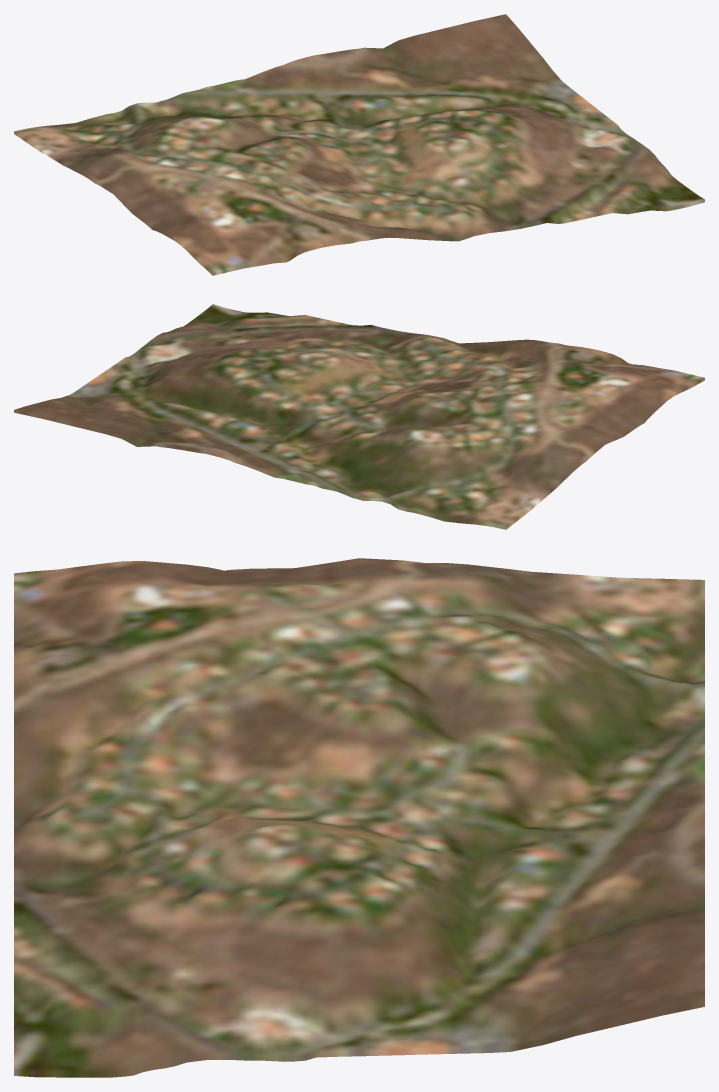
The model's file is terrain_r0_c0_lod1.glb.
The picture shows the model from 3 angles, top to bottom: view 1: azimuth 30°, elevation 25°; view 2: azimuth 150°, elevation 25°; view 3: azimuth 270°, elevation 25°; orthographic projection. The views are drawn at different scales.
Parts seen in each view (by area): view 1: terrain_r0_c0_lod1; view 2: terrain_r0_c0_lod1; view 3: terrain_r0_c0_lod1.
Part boxes in pixels (x1,y1,x2,y2): terrain_r0_c0_lod1: (14, 14, 704, 275); terrain_r0_c0_lod1: (14, 304, 704, 529); terrain_r0_c0_lod1: (14, 558, 704, 1077).
Size of the model in its own units: 1125 by 145 by 787.
Materials: 1 (1 with a texture image).
